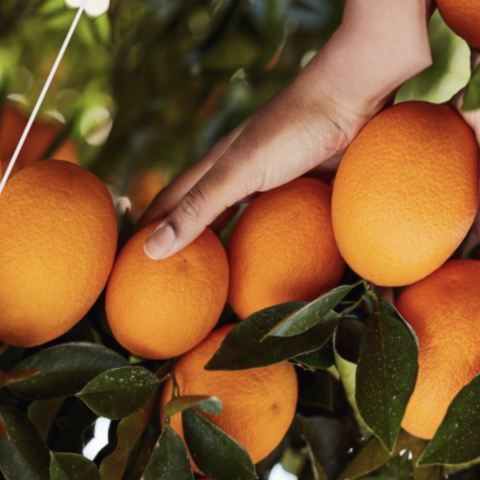orange: (289, 76, 480, 321), (0, 139, 166, 392), (70, 189, 260, 400)
